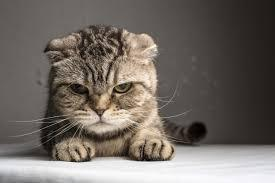Cat: (50, 23, 160, 130)
